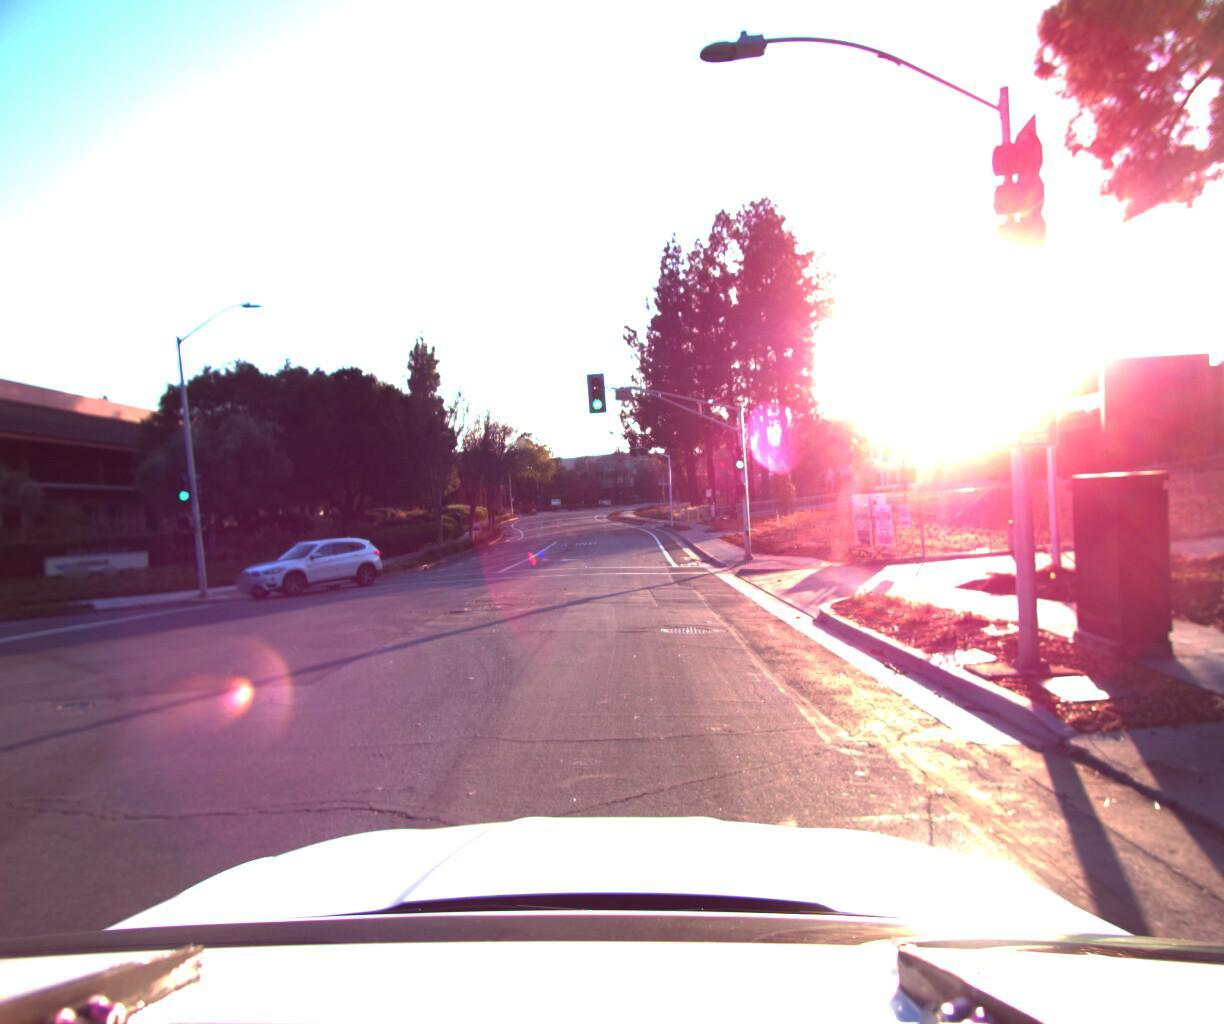car: (222, 527, 389, 600)
